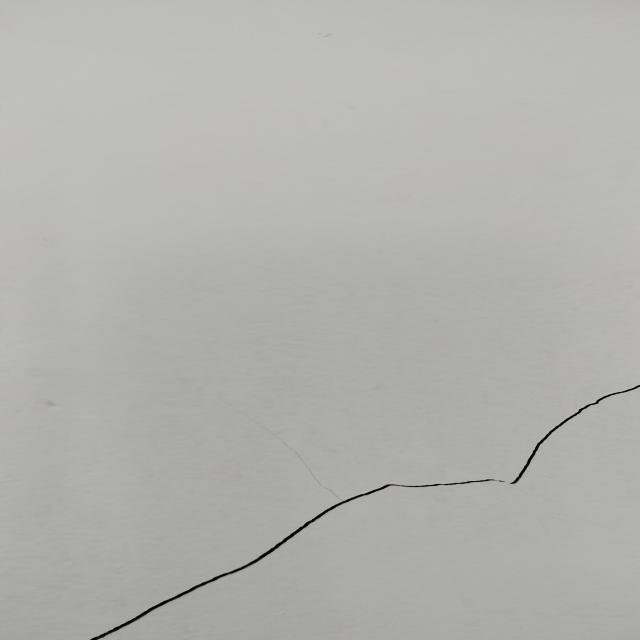Crack: (81, 382, 640, 640)
